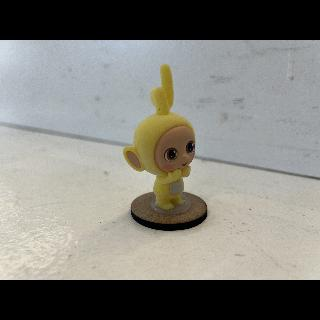teletubby: (124, 65, 195, 209)
